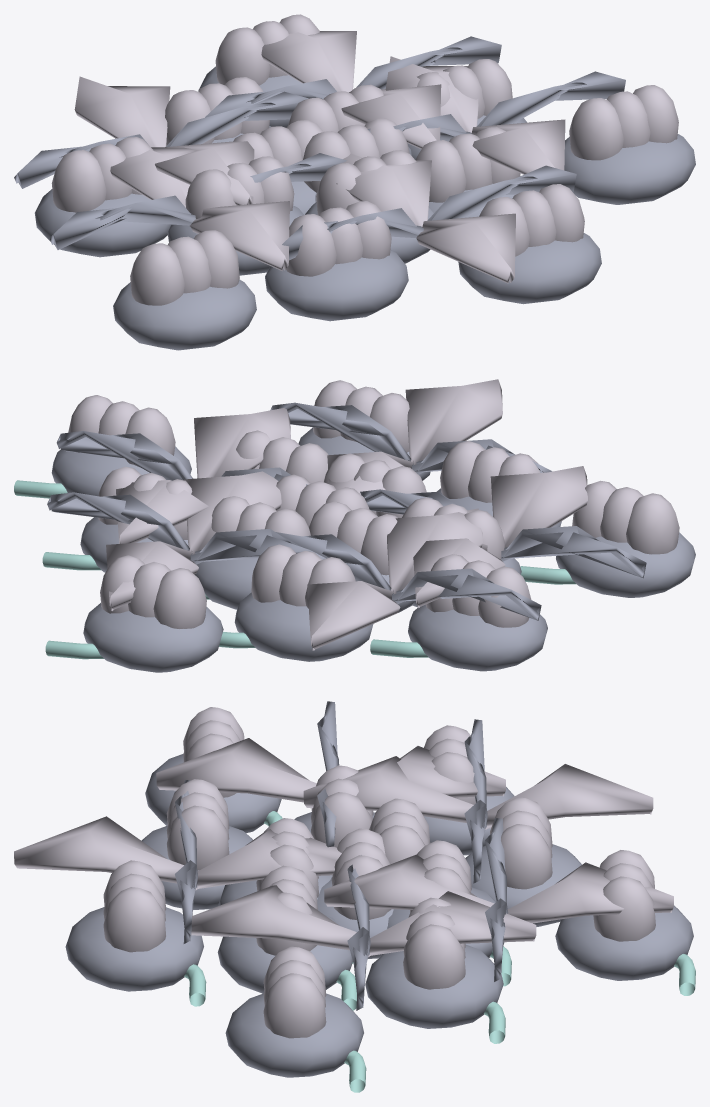
Rendered from bio_acid_mat_25_far.glb.
The picture shows the model from 3 angles, top to bottom: view 1: azimuth 30°, elevation 25°; view 2: azimuth 150°, elevation 25°; view 3: azimuth 270°, elevation 25°; orthographic projection. The views are drawn at different scales.
Parts seen in each view (by area): view 1: Low buttress leaf.009, Low buttress leaf.005, Low buttress leaf.013, Low buttress leaf.017, Microbial cushion.012, Microbial cushion.007, Microbial cushion.013, Reaction vesicle.036, Reaction vesicle.039, Low buttress leaf.001, Microbial cushion.010, Reaction vesicle.021 (+21 smaller); view 2: Low buttress leaf.005, Low buttress leaf.017, Low buttress leaf.001, Low buttress leaf.009, Microbial cushion.011, Microbial cushion.009, Low buttress leaf.013, Low buttress leaf.012, Reaction vesicle.036, Reaction vesicle.033, Low buttress leaf.004, Low buttress leaf.016 (+27 smaller); view 3: Low buttress leaf.001, Low buttress leaf.009, Low buttress leaf.005, Low buttress leaf.013, Low buttress leaf.017, Microbial cushion.013, Microbial cushion.008, Microbial cushion.010, Microbial cushion.011, Reaction vesicle.030, Reaction vesicle.039, Reaction vesicle.024 (+28 smaller).
Boxes of the visible parts, x1=… form: Low buttress leaf.009: x1=336, y1=153, x2=515, y2=283; Low buttress leaf.005: x1=74, y1=76, x2=254, y2=205; Low buttress leaf.013: x1=261, y1=21, x2=441, y2=149; Low buttress leaf.017: x1=110, y1=138, x2=289, y2=270; Microbial cushion.012: x1=113, y1=279, x2=256, y2=350; Microbial cushion.007: x1=265, y1=250, x2=408, y2=321; Microbial cushion.013: x1=564, y1=134, x2=695, y2=204; Reaction vesicle.036: x1=130, y1=230, x2=239, y2=305; Reaction vesicle.039: x1=569, y1=85, x2=678, y2=160; Low buttress leaf.001: x1=385, y1=56, x2=565, y2=174; Microbial cushion.010: x1=458, y1=233, x2=601, y2=304; Reaction vesicle.021: x1=286, y1=201, x2=391, y2=276; Low buttress leaf.005: x1=307, y1=508, x2=482, y2=650; Low buttress leaf.017: x1=413, y1=466, x2=587, y2=607; Low buttress leaf.001: x1=116, y1=408, x2=290, y2=543; Low buttress leaf.009: x1=327, y1=379, x2=502, y2=494; Microbial cushion.011: x1=83, y1=603, x2=223, y2=672; Microbial cushion.009: x1=408, y1=604, x2=547, y2=671; Low buttress leaf.013: x1=106, y1=471, x2=281, y2=610; Low buttress leaf.012: x1=47, y1=492, x2=325, y2=564; Reaction vesicle.036: x1=572, y1=480, x2=679, y2=554; Reaction vesicle.033: x1=100, y1=555, x2=206, y2=628; Low buttress leaf.004: x1=275, y1=532, x2=541, y2=620; Low buttress leaf.016: x1=360, y1=489, x2=646, y2=578; Low buttress leaf.001: x1=191, y1=885, x2=536, y2=957; Low buttress leaf.009: x1=14, y1=816, x2=341, y2=890; Low buttress leaf.005: x1=303, y1=756, x2=653, y2=829; Low buttress leaf.013: x1=324, y1=854, x2=673, y2=923; Low buttress leaf.017: x1=156, y1=738, x2=505, y2=802; Microbial cushion.013: x1=225, y1=993, x2=363, y2=1077; Microbial cushion.008: x1=365, y1=945, x2=503, y2=1028; Microbial cushion.010: x1=65, y1=907, x2=203, y2=991; Microbial cushion.011: x1=555, y1=905, x2=693, y2=980; Reaction vesicle.030: x1=103, y1=860, x2=166, y2=952; Reaction vesicle.039: x1=263, y1=946, x2=326, y2=1038; Reaction vesicle.024: x1=403, y1=897, x2=465, y2=989.
Size of the model in its own units: 2.38 by 0.3799 by 2.16.
